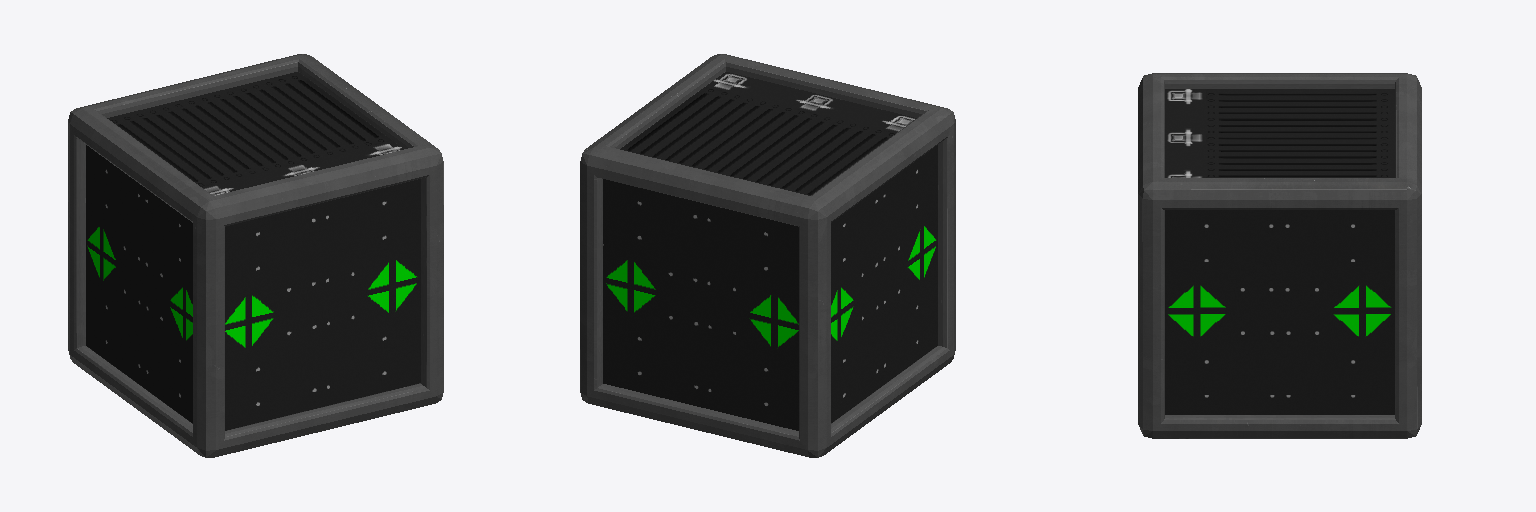
3 renders of one model, left to right at view 1: azimuth 30°, elevation 25°; view 2: azimuth 150°, elevation 25°; view 3: azimuth 270°, elevation 25°, orthographic.
Visible parts, largest first — view 1: Default; view 2: Default; view 3: Default.
Part boxes in pixels (left/top/right/bottom): Default: left=68, top=54, right=443, bottom=457; Default: left=580, top=54, right=955, bottom=457; Default: left=1138, top=73, right=1421, bottom=438.
Bounding box in the file's own units: 1 × 1 × 1.
Materials: 1 (1 with a texture image).